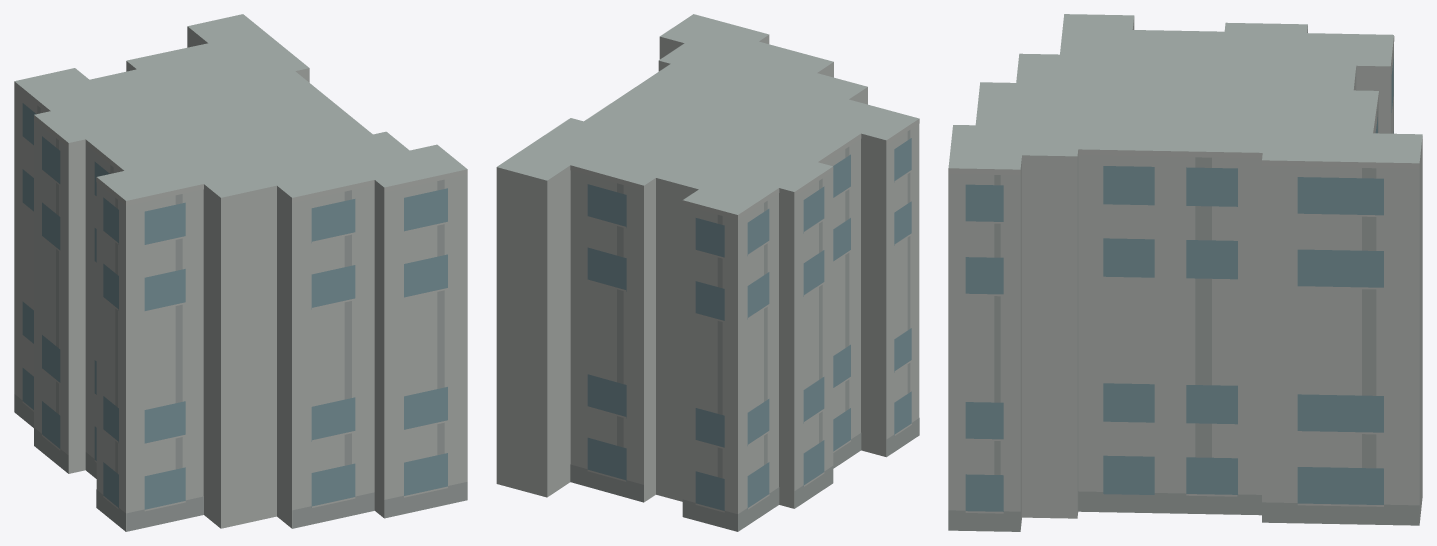
The model's file is survey-upis-32629576.glb.
The picture shows the model from 3 angles, left to right: view 1: azimuth 30°, elevation 25°; view 2: azimuth 150°, elevation 25°; view 3: azimuth 270°, elevation 25°; orthographic projection. The views are drawn at different scales.
Visible parts, largest first — view 1: survey-upis-32629576.tmp; view 2: survey-upis-32629576.tmp; view 3: survey-upis-32629576.tmp.
Boxes of the visible parts, box(x1,y1,x2,y2) form: survey-upis-32629576.tmp: box(14, 14, 467, 531); survey-upis-32629576.tmp: box(496, 14, 919, 531); survey-upis-32629576.tmp: box(948, 14, 1422, 531).
Bounding box in the file's own units: 14.1 × 15.3 × 18.16.
